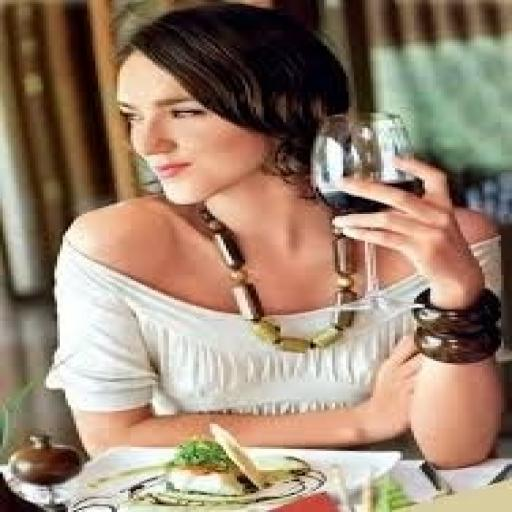drinking: (305, 111, 425, 321)
